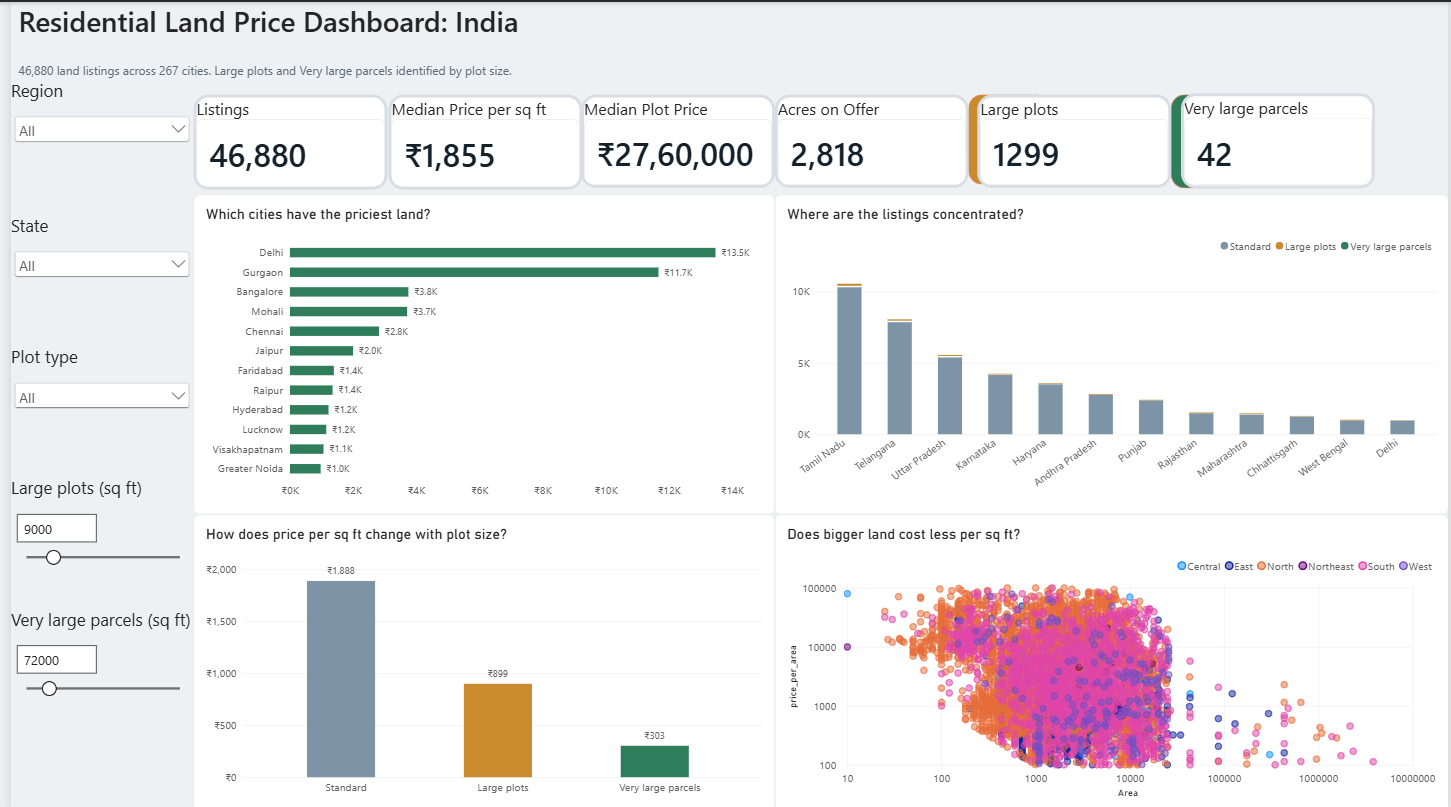

The page's visual inventory and layout, read from the dashboard file:
{"tool":"powerbi","page":{"name":"Land Market Overview","canvas":[1920,1080],"ordinal":0},"visuals":[{"type":"textbox","box":[10.3,0,1910.1,53.5],"z":0},{"type":"textbox","box":[10.3,80.3,1910.1,43.2],"z":1000},{"type":"slicer","title":"Region","fields":{"Values":["Land.region"]},"box":[0,101.9,243.8,175.3],"z":2000},{"type":"slicer","title":"State","fields":{"Values":["Land.state"]},"box":[0,282.2,243.8,175.3],"z":3000},{"type":"slicer","title":"Plot type","fields":{"Values":["Plot Segments.Segment"]},"box":[0,457.5,243.8,175.3],"z":4000},{"type":"cardVisual","title":"Listings","fields":{"Data":["Land.Seg Listings"]},"box":[243.8,123.6,259.5,127],"z":5000},{"type":"cardVisual","title":"Acres on Offer","fields":{"Data":["Land.Seg Acres"]},"box":[1020.2,123.6,259.5,125.2],"z":6000},{"type":"cardVisual","title":"Median Plot Price","fields":{"Data":["Land.Seg Median Plot Price"]},"box":[761.4,123.6,259.5,125.2],"z":7000},{"type":"shape","box":[1279,123.6,108.5,120.2],"z":8500},{"type":"cardVisual","title":"Large plots","fields":{"Data":["Land.Hotel Sites"]},"box":[1290.7,123.6,259.5,125.2],"z":8750},{"type":"cardVisual","title":"Median Price per sq ft","fields":{"Data":["Land.Seg Median Price per sq ft"]},"box":[504.3,123.6,259.5,127],"z":11000},{"type":"shape","box":[1549.5,123.6,108.5,125.2],"z":11250},{"type":"cardVisual","title":"Very large parcels","fields":{"Data":["Land.Township Sites"]},"box":[1562.9,121.9,259.5,127],"z":11500},{"type":"clusteredBarChart","title":"Which cities have the priciest land?","fields":{"Category":["Land.city"],"Y":["Land.Seg Median Price per sq ft"]},"box":[243.8,257.1,776.4,427.5],"z":11501},{"type":"clusteredColumnChart","title":"How does price per sq ft change with plot size?","fields":{"Category":["Plot Segments.Segment"],"Y":["Land.Seg Median Price per sq ft"]},"box":[243.8,684.6,776.4,395.7],"z":11502},{"type":"columnChart","title":"Where are the listings concentrated?","fields":{"Category":["Land.state"],"Series":["Plot Segments.Segment"],"Y":["Land.Seg Listings"]},"box":[1020.2,257.1,900,427.5],"z":11503},{"type":"scatterChart","title":"Does bigger land cost less per sq ft?","fields":{"Series":["Land.region"],"X":["Land.Area"],"Y":["Land.price_per_area"]},"box":[1020.2,684.6,900,395.7],"z":11504},{"type":"slicer","title":"Large plots (sq ft)","fields":{"Values":["Hotel-scale from.Hotel-scale from"]},"box":[0,632.8,243.8,175.3],"z":11505},{"type":"slicer","title":"Very large parcels (sq ft)","fields":{"Values":["Township-scale from.Township-scale from"]},"box":[0,808.2,243.8,197],"z":11506}]}

Visuals, with their boxes in screenshot pixels (x1, y1, x2, y2), scaled from the page's 1920x1080 canvas onto the 1451x807 screenshot:
textbox: (x1=8, y1=0, x2=1450, y2=40)
textbox: (x1=8, y1=60, x2=1450, y2=92)
"Region" slicer: (x1=0, y1=76, x2=184, y2=207)
"State" slicer: (x1=0, y1=211, x2=184, y2=342)
"Plot type" slicer: (x1=0, y1=342, x2=184, y2=473)
"Listings" cardVisual: (x1=184, y1=92, x2=380, y2=187)
"Acres on Offer" cardVisual: (x1=771, y1=92, x2=967, y2=186)
"Median Plot Price" cardVisual: (x1=575, y1=92, x2=772, y2=186)
shape: (x1=967, y1=92, x2=1049, y2=182)
"Large plots" cardVisual: (x1=975, y1=92, x2=1172, y2=186)
"Median Price per sq ft" cardVisual: (x1=381, y1=92, x2=577, y2=187)
shape: (x1=1171, y1=92, x2=1253, y2=186)
"Very large parcels" cardVisual: (x1=1181, y1=91, x2=1377, y2=186)
"Which cities have the priciest land?" clusteredBarChart: (x1=184, y1=192, x2=771, y2=512)
"How does price per sq ft change with plot size?" clusteredColumnChart: (x1=184, y1=512, x2=771, y2=806)
"Where are the listings concentrated?" columnChart: (x1=771, y1=192, x2=1450, y2=512)
"Does bigger land cost less per sq ft?" scatterChart: (x1=771, y1=512, x2=1450, y2=806)
"Large plots (sq ft)" slicer: (x1=0, y1=473, x2=184, y2=604)
"Very large parcels (sq ft)" slicer: (x1=0, y1=604, x2=184, y2=751)
